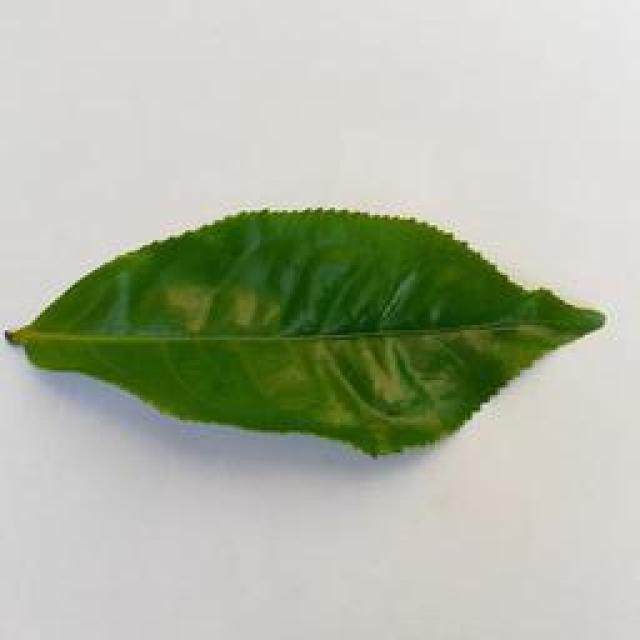Healthy: (6, 204, 608, 466)
